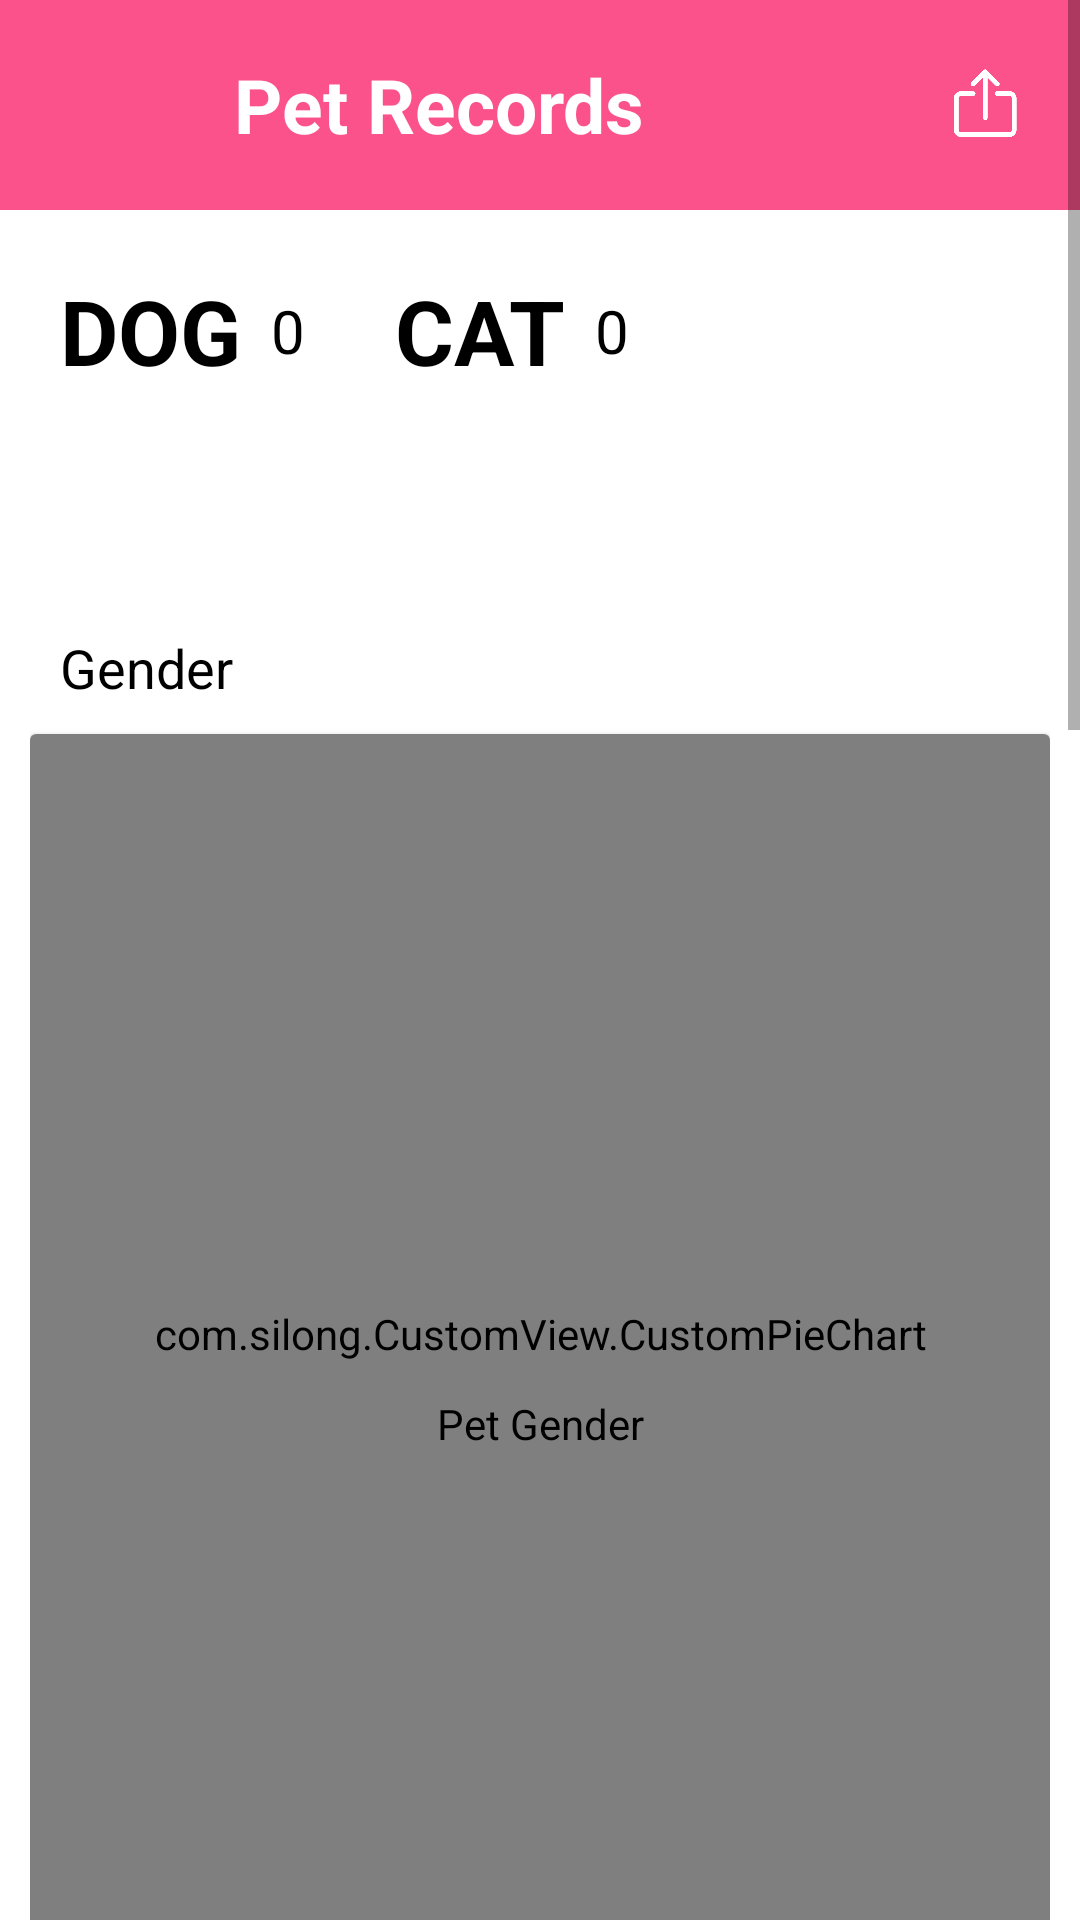

Where to tap for icons on this 1080w x 1920h app screen, as (x,y):
export: (985,103)
